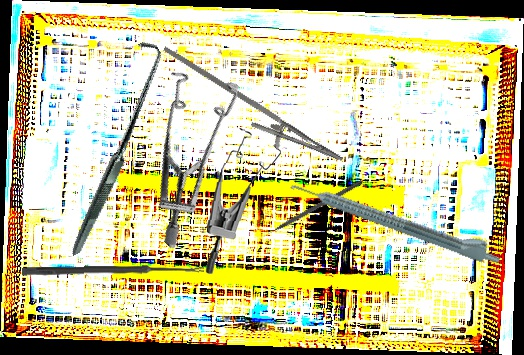Handpiece: (288, 169, 506, 269)
Hook Surgical: (1, 37, 225, 256), (257, 178, 364, 242)
Needle Holder: (145, 45, 355, 177)
Speculum: (83, 46, 290, 251), (204, 126, 283, 278)
Surgical Spoon: (21, 264, 205, 277)
